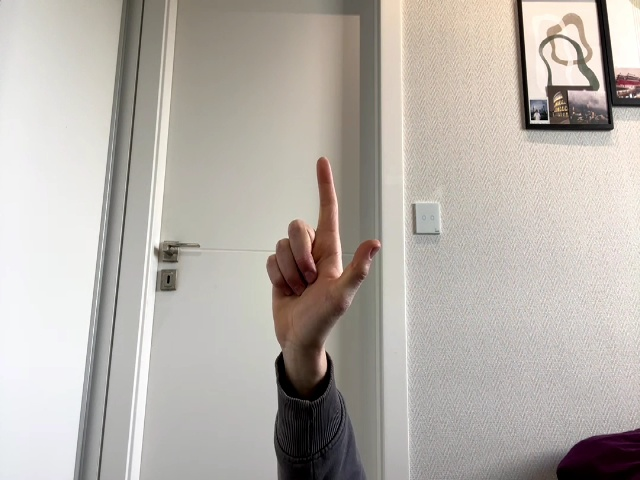L: (267, 157, 381, 356)
